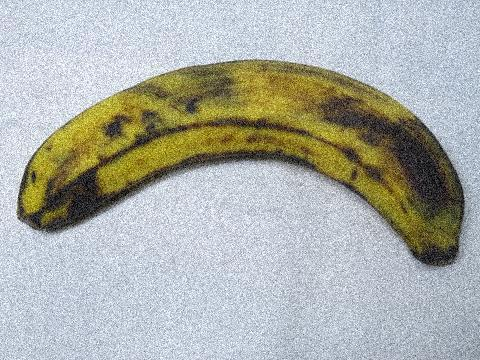overripe: (7, 43, 468, 279)
